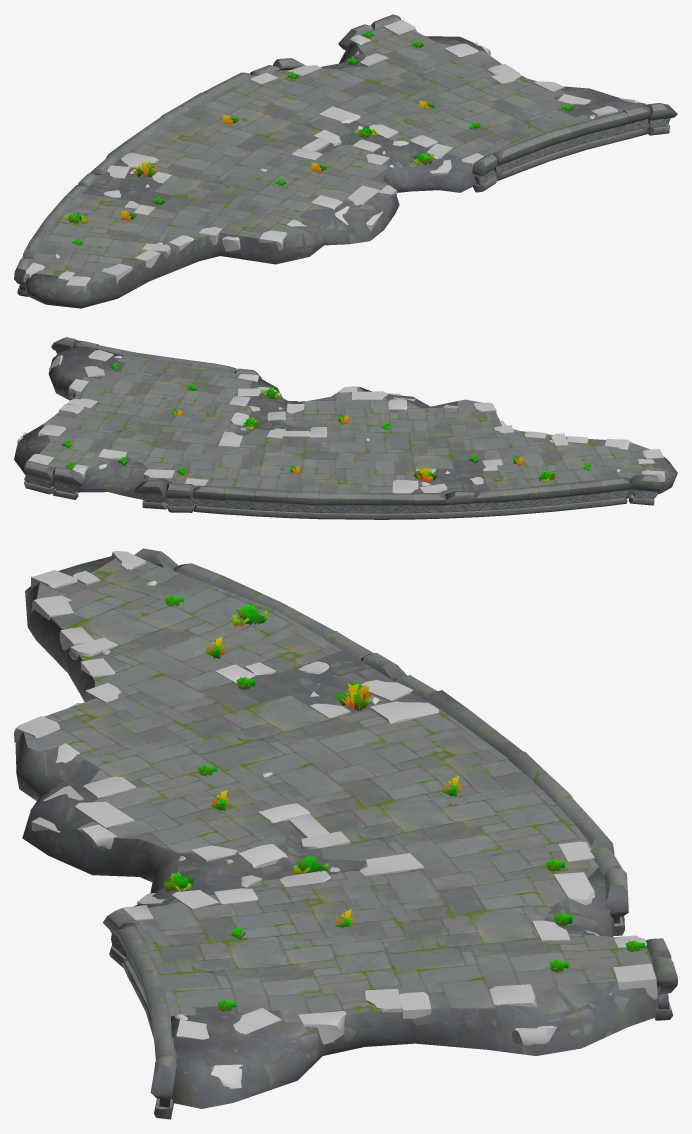
The model's file is Area_MdBuild_SdBridge09_Group.fbx.
The picture shows the model from 3 angles, top to bottom: view 1: azimuth 30°, elevation 25°; view 2: azimuth 150°, elevation 25°; view 3: azimuth 270°, elevation 25°; orthographic projection. The views are drawn at different scales.
Visible parts, largest first — view 1: Area_MdBuild_SdBridge09_Lod0; view 2: Area_MdBuild_SdBridge09_Lod0; view 3: Area_MdBuild_SdBridge09_Lod0.
Part boxes in pixels (left/top/right/bottom): Area_MdBuild_SdBridge09_Lod0: left=14, top=14, right=677, bottom=308; Area_MdBuild_SdBridge09_Lod0: left=14, top=337, right=677, bottom=519; Area_MdBuild_SdBridge09_Lod0: left=14, top=548, right=677, bottom=1119.
Size of the model in its own units: 50.38 by 3.01 by 26.61.
